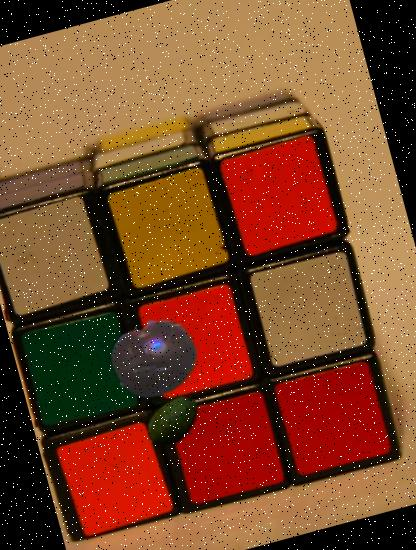Avocado: (138, 385, 210, 458)
Passion: (102, 304, 210, 412)
